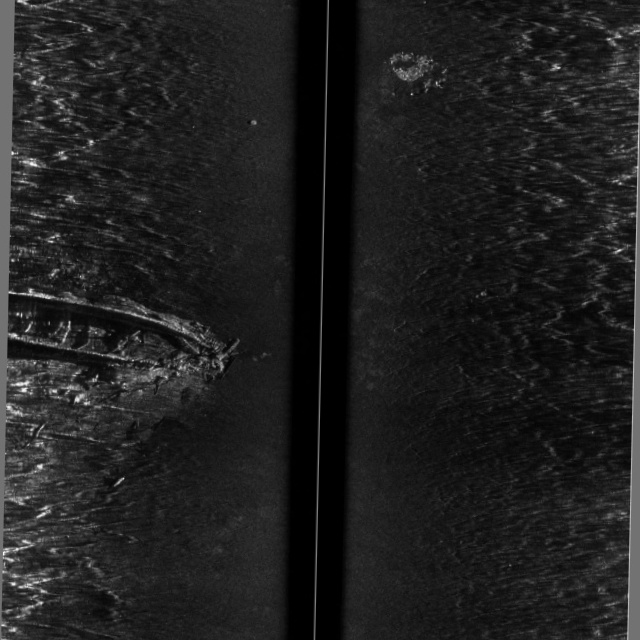Shipwreck: (3, 43, 448, 494)
